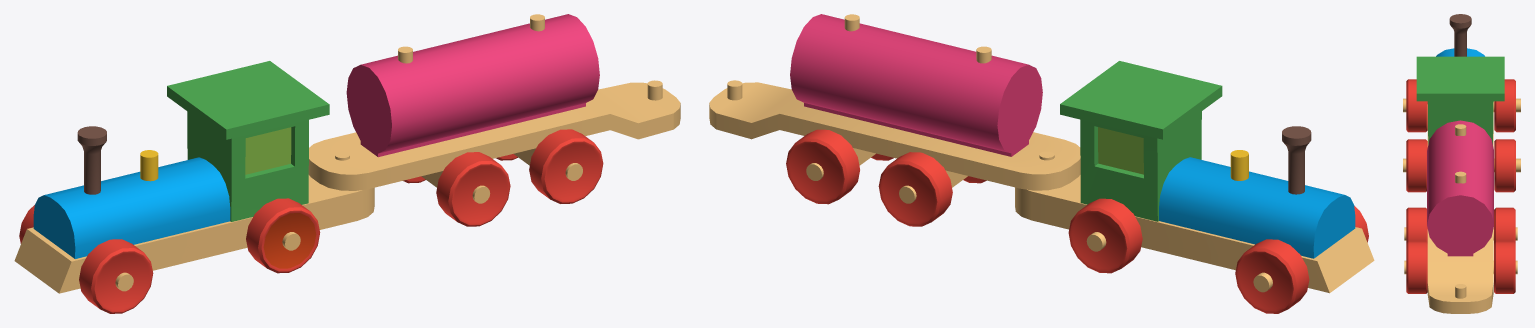
Rendered from Train.fbx.
The picture shows the model from 3 angles, left to right: view 1: azimuth 30°, elevation 25°; view 2: azimuth 150°, elevation 25°; view 3: azimuth 270°, elevation 25°; orthographic projection. The views are drawn at different scales.
Parts seen in each view (by area): view 1: Train; view 2: Train; view 3: Train.
Part boxes in pixels (left/top/right/bottom): Train: left=14, top=14, right=680, bottom=313; Train: left=709, top=14, right=1374, bottom=313; Train: left=1403, top=14, right=1520, bottom=313.
Size of the model in its own units: 39.07 by 9.42 by 8.52.
Materials: 1 (1 with a texture image).
